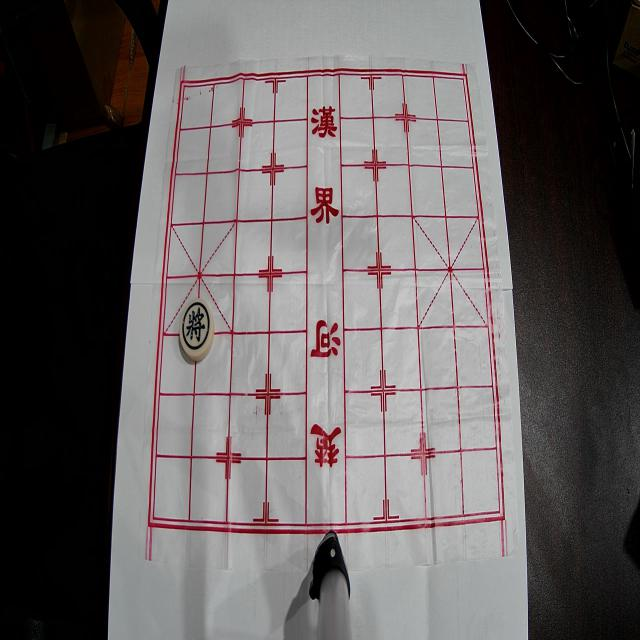black-general: (180, 298, 214, 361)
